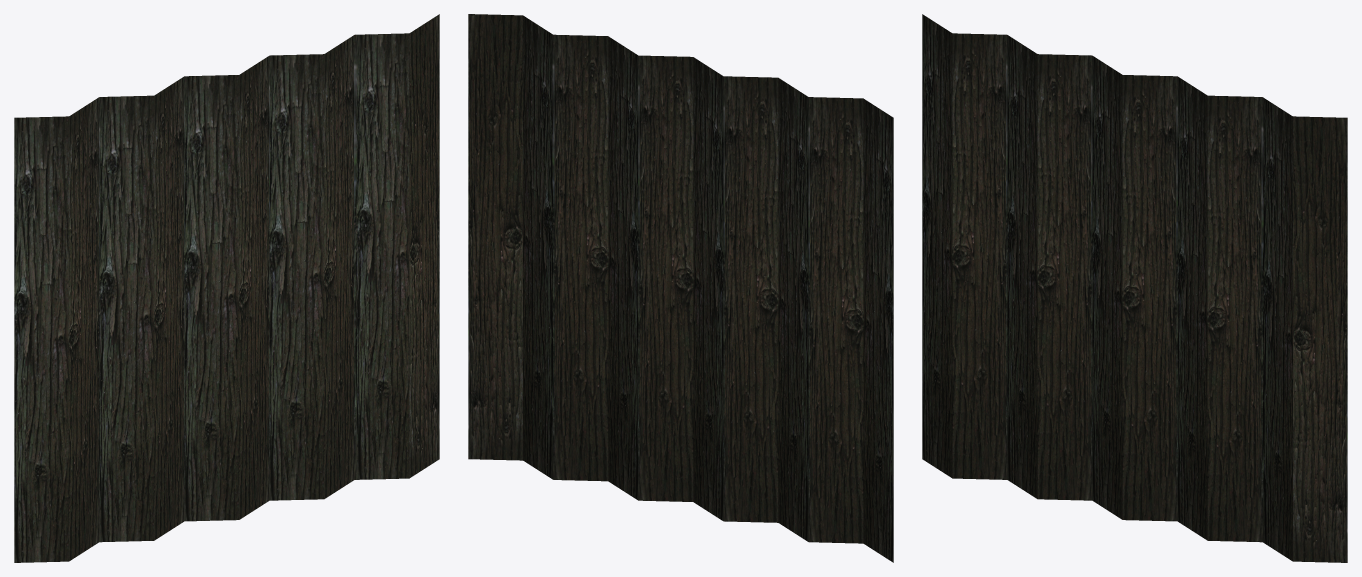
File: TreePlane2.glb
3 renders of one model, left to right at view 1: azimuth 30°, elevation 25°; view 2: azimuth 150°, elevation 25°; view 3: azimuth 330°, elevation 25°, orthographic.
Parts seen in each view (by area): view 1: Plane; view 2: Plane; view 3: Plane.
Boxes of the visible parts, x1,y1,x2,y2 form: Plane: (14,14,439,562); Plane: (468,14,893,562); Plane: (922,14,1347,562).
Size of the model in its own units: 10 by 10 by 0.5.
1 material, 1 textured.
